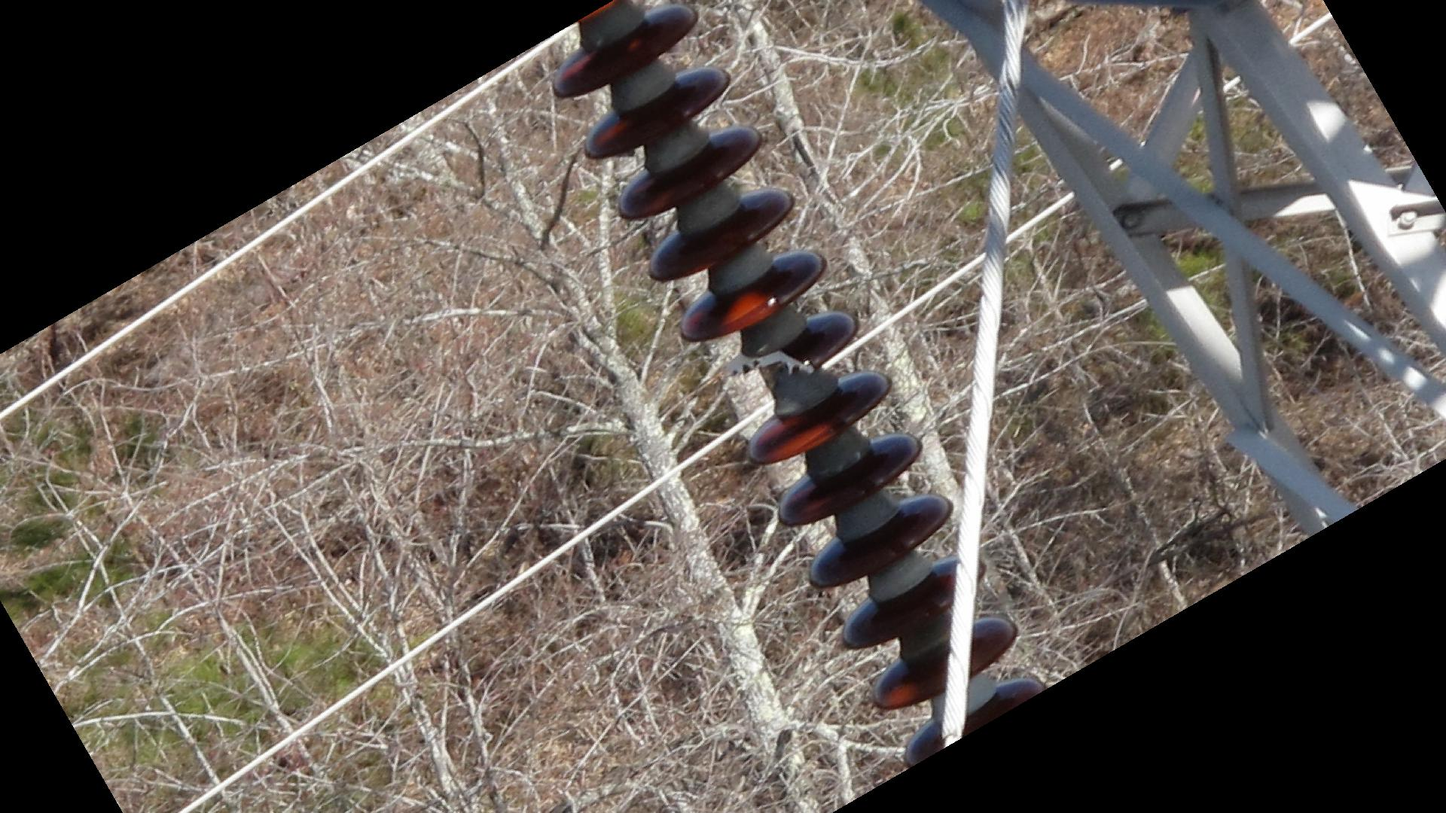insulator: (548, 1, 1054, 772)
insulator_breakage: (718, 346, 819, 383)
